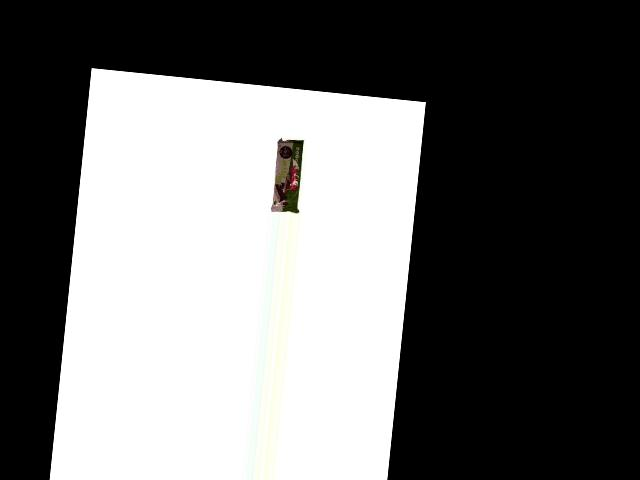chocolate: (267, 135, 305, 213)
